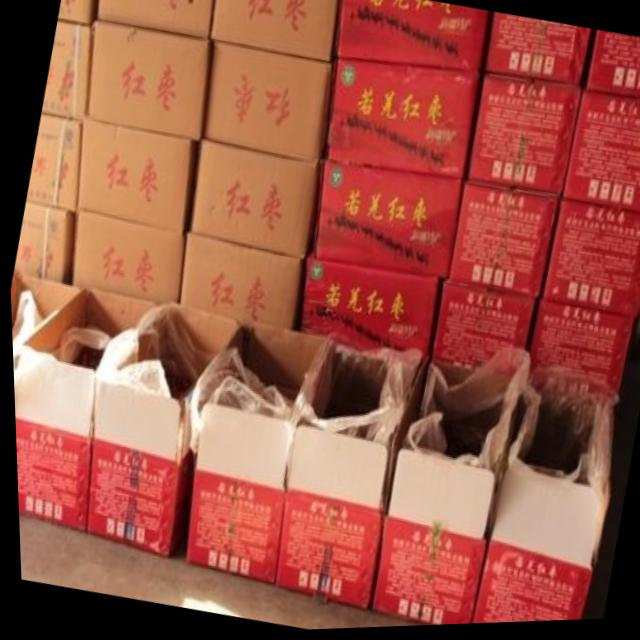box: (366, 345, 527, 628), (270, 342, 422, 612), (82, 303, 238, 557), (180, 318, 324, 584), (466, 375, 614, 627), (10, 289, 159, 530), (325, 62, 478, 182), (310, 165, 460, 281), (201, 42, 333, 165), (188, 140, 323, 259), (298, 246, 441, 358), (86, 20, 210, 142), (75, 116, 199, 236), (465, 78, 582, 199), (446, 184, 560, 300), (178, 233, 301, 335), (538, 199, 640, 320), (332, 0, 490, 76), (69, 211, 184, 306), (526, 302, 631, 397), (560, 94, 640, 215), (427, 284, 533, 370), (481, 16, 590, 91), (210, 0, 337, 64), (8, 202, 74, 317), (9, 274, 80, 355), (25, 112, 82, 211), (40, 22, 93, 122), (98, 0, 214, 42), (583, 35, 640, 102), (57, 0, 98, 27)
